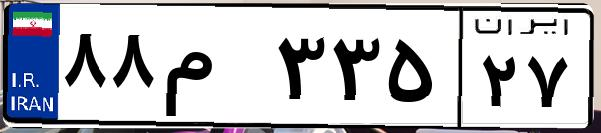2: (475, 38, 525, 113)
3: (270, 28, 330, 110), (330, 28, 385, 110)
5: (385, 28, 445, 110)
7: (525, 38, 570, 115)
8: (57, 26, 110, 100), (110, 28, 158, 98)
م: (158, 20, 270, 120)
